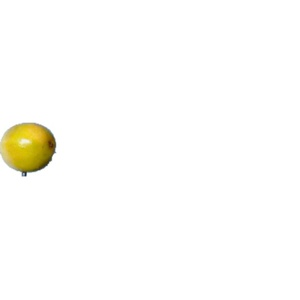maracujá: (1, 123, 57, 177)
